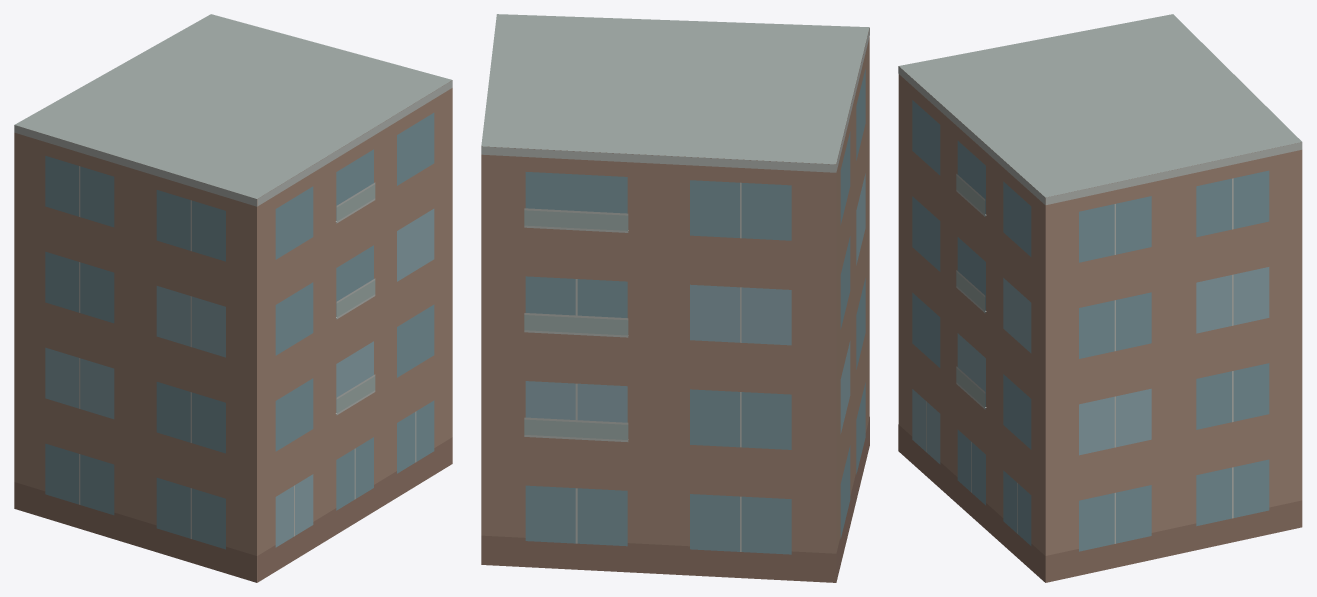
File: survey-upis-32889457.glb
3 renders of one model, left to right at view 1: azimuth 30°, elevation 25°; view 2: azimuth 150°, elevation 25°; view 3: azimuth 270°, elevation 25°, orthographic. The views are drawn at different scales.
Parts seen in each view (by area): view 1: survey-upis-32889457.tmp; view 2: survey-upis-32889457.tmp; view 3: survey-upis-32889457.tmp.
Boxes of the visible parts, box(x1,y1,x2,y2) form: survey-upis-32889457.tmp: box(14, 14, 452, 582); survey-upis-32889457.tmp: box(481, 14, 869, 582); survey-upis-32889457.tmp: box(898, 14, 1302, 582).
Bounding box in the file's own units: 12.48 × 12.2 × 11.6.
